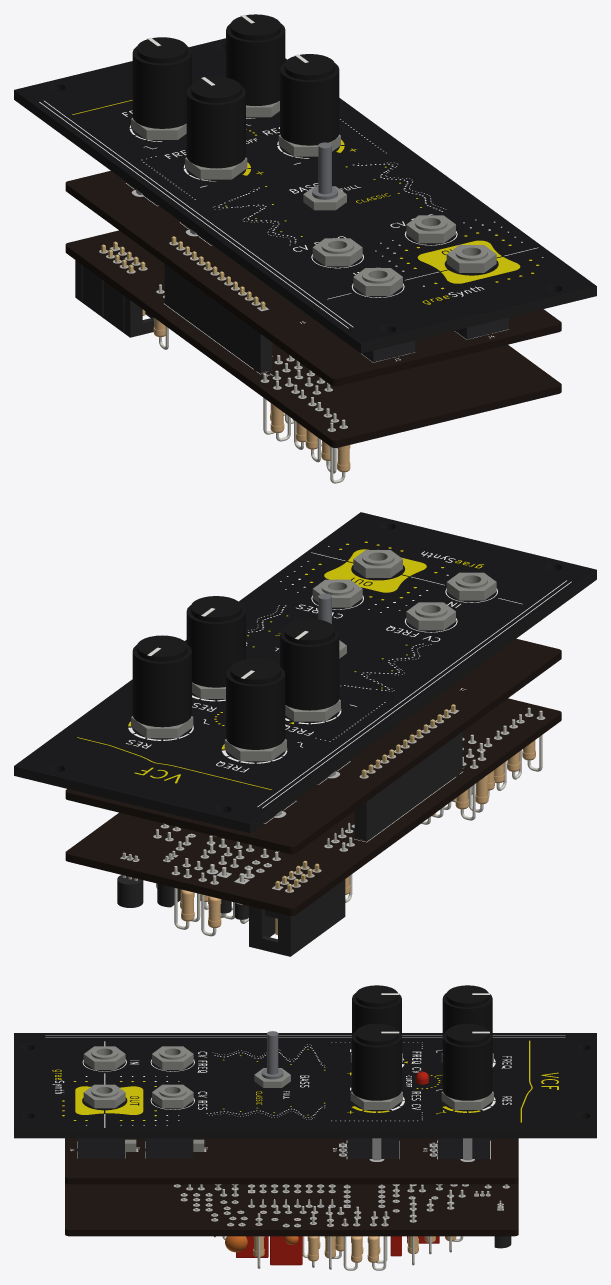
The model's file is a5-kit.glb.
3 renders of one model, top to bottom at view 1: azimuth 30°, elevation 25°; view 2: azimuth 150°, elevation 25°; view 3: azimuth 270°, elevation 25°, orthographic. The views are drawn at different scales.
Bounding box in the file's own units: 0.0505 × 0.0523 × 0.1285.
